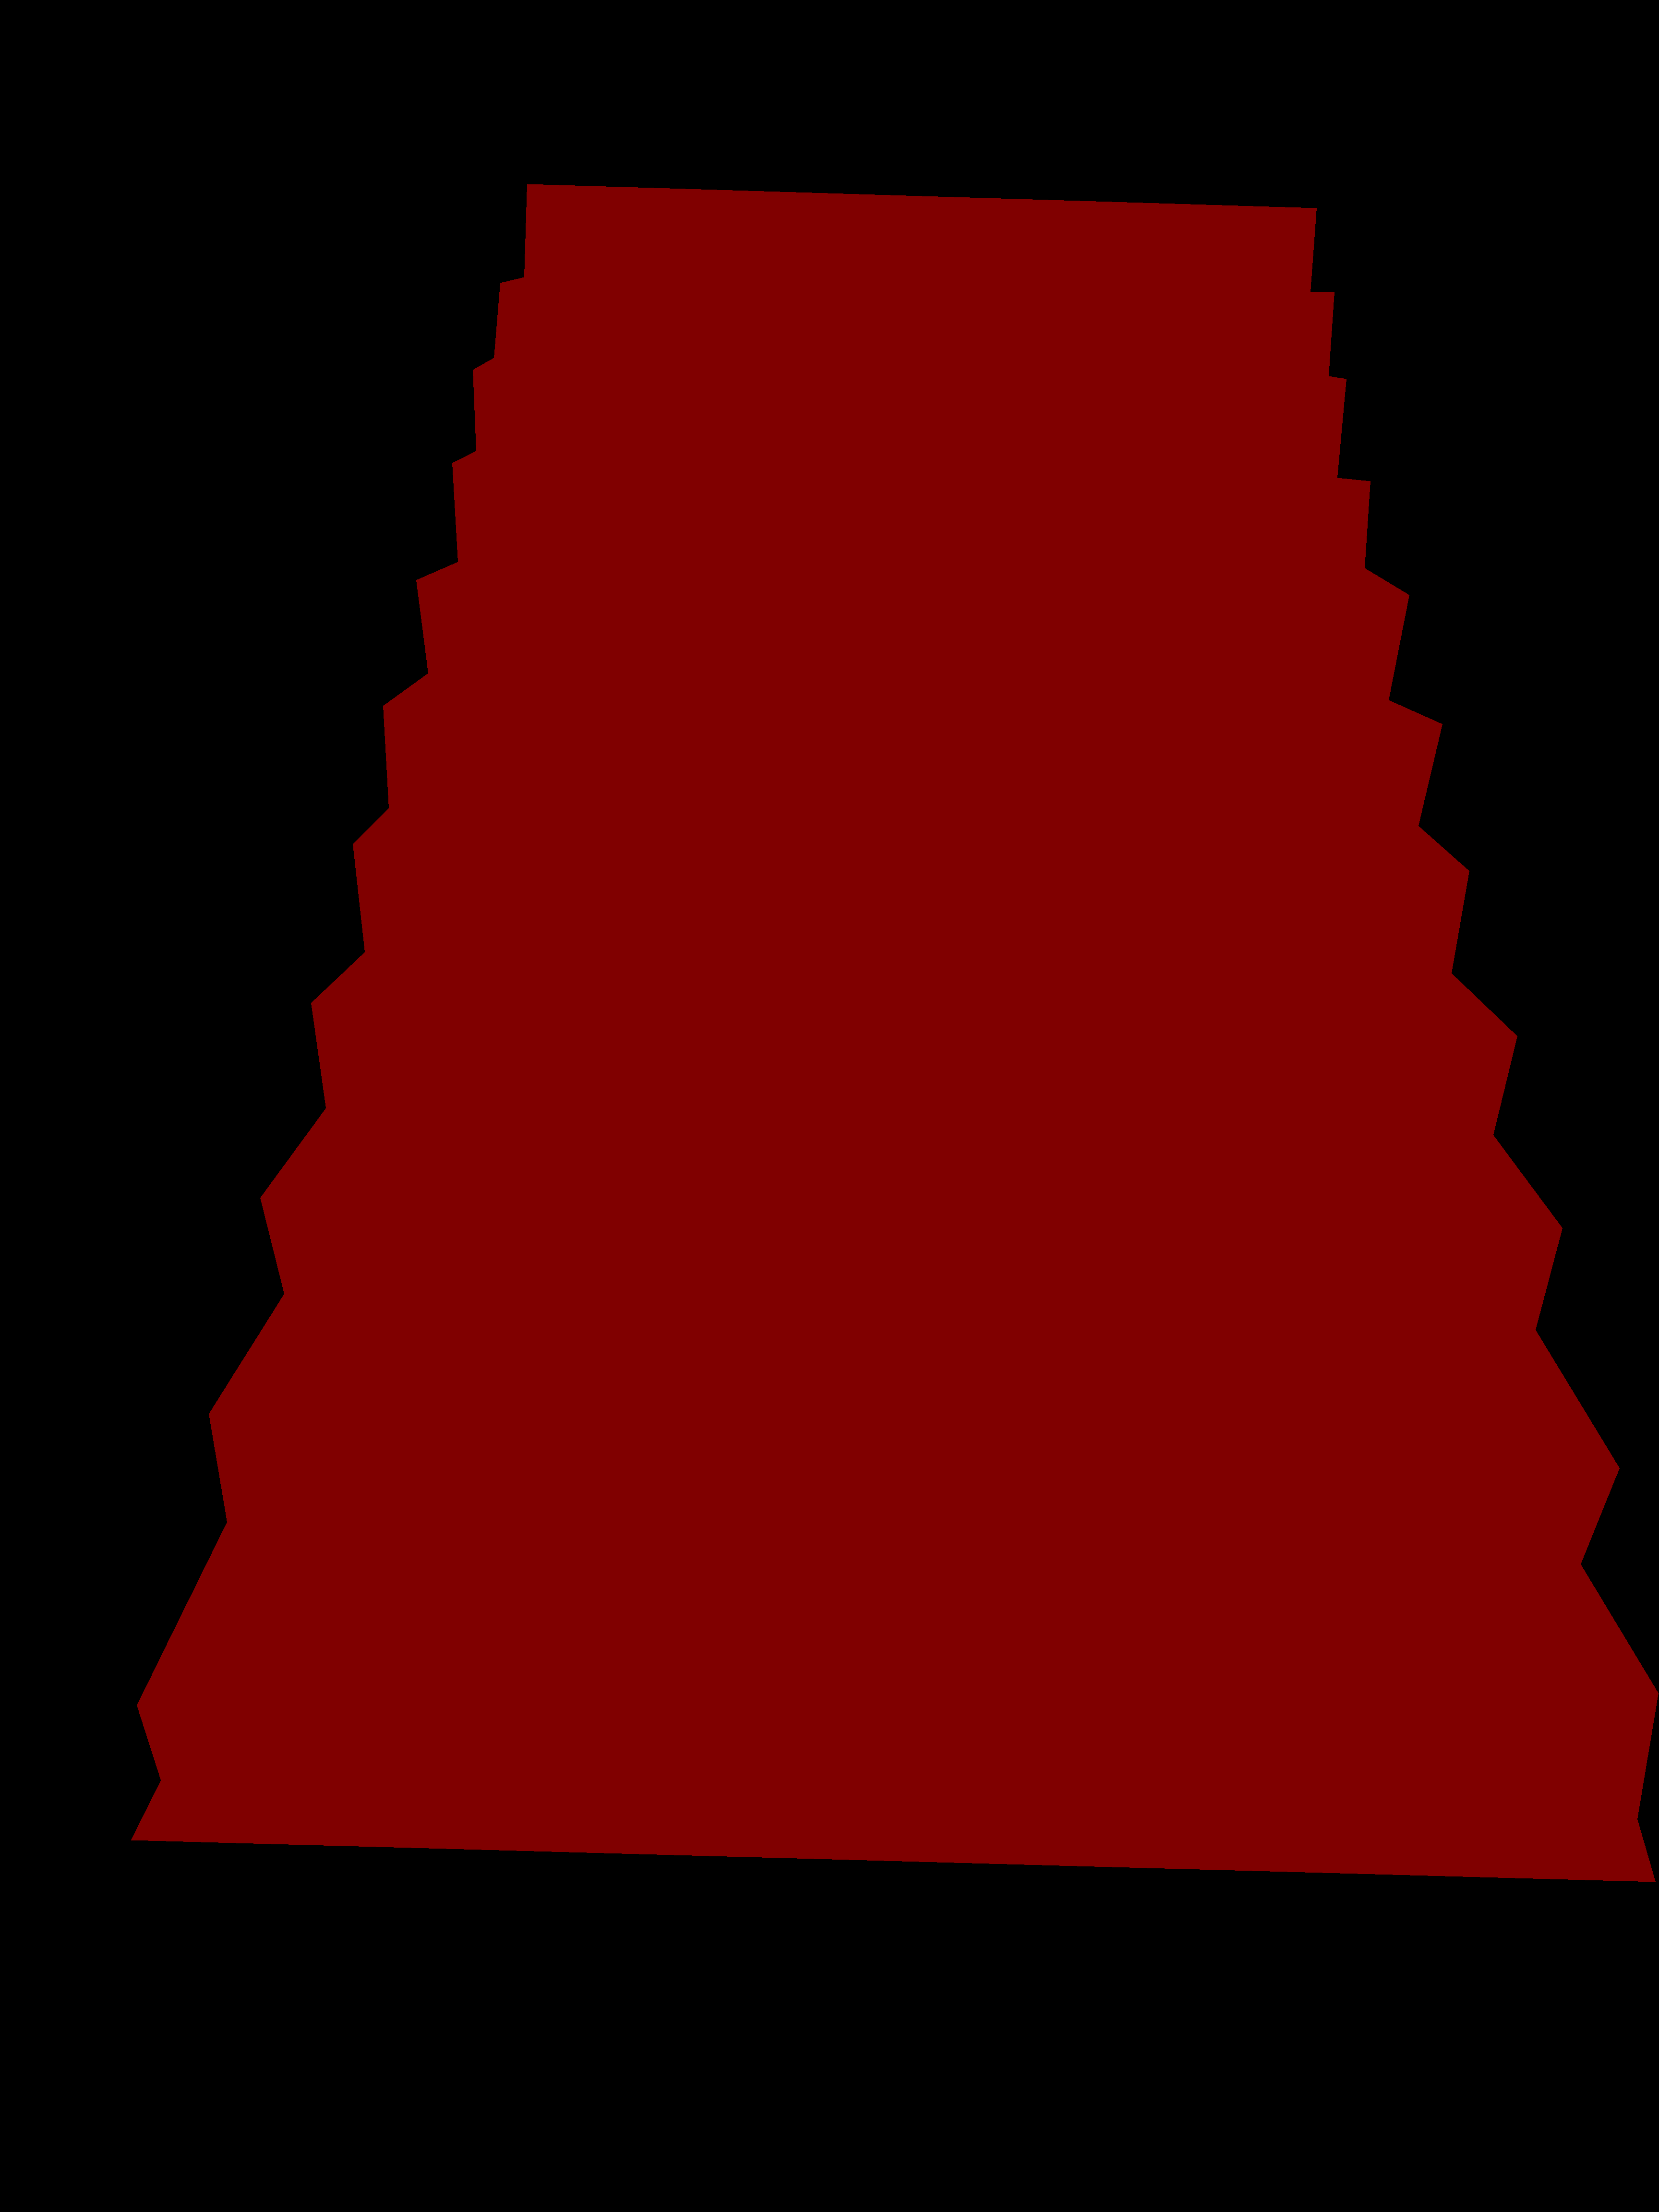stair: (131, 185, 1657, 1881)
